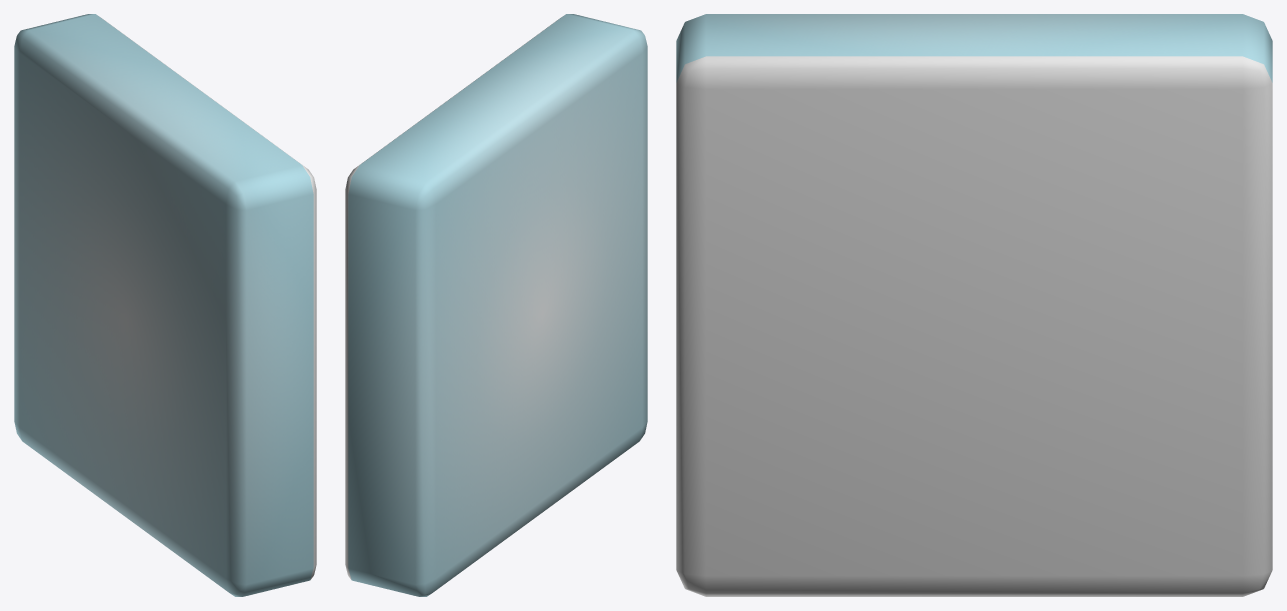
File: right_light_button_off.glb
3 views of the same model, side by side, from view 1: azimuth 30°, elevation 25°; view 2: azimuth 150°, elevation 25°; view 3: azimuth 270°, elevation 25° (orthographic). The views are drawn at different scales.
Parts seen in each view (by area): view 1: RightLightButtonOff; view 2: RightLightButtonOff; view 3: RightLightButtonOff.
Part boxes in pixels (x1=…): RightLightButtonOff: x1=14, y1=14, x2=316, y2=596; RightLightButtonOff: x1=345, y1=14, x2=647, y2=596; RightLightButtonOff: x1=676, y1=14, x2=1272, y2=596.
Size of the model in its own units: 0.0721 by 0.3354 by 0.3354.
Materials: 2 (1 with a texture image).
